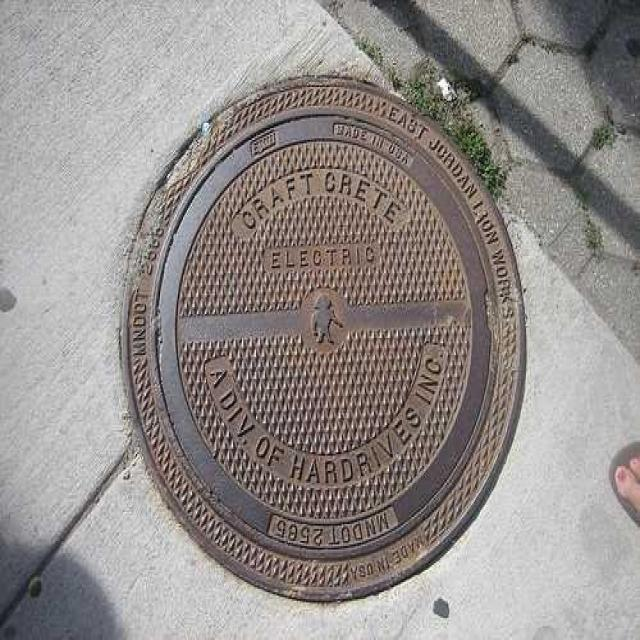manhole: (125, 78, 525, 600)
